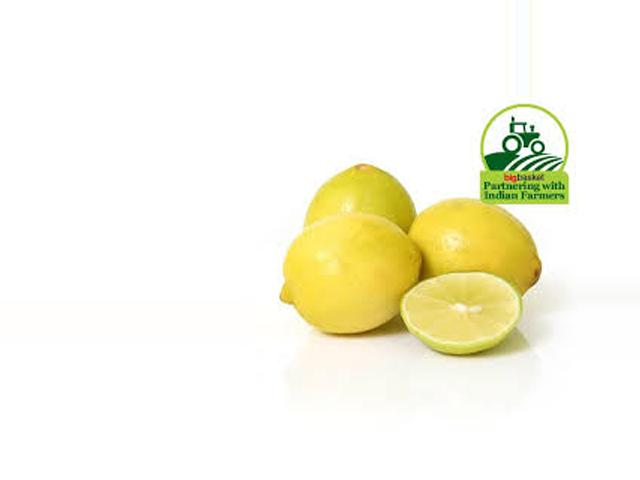lemon: (266, 212, 416, 342)
